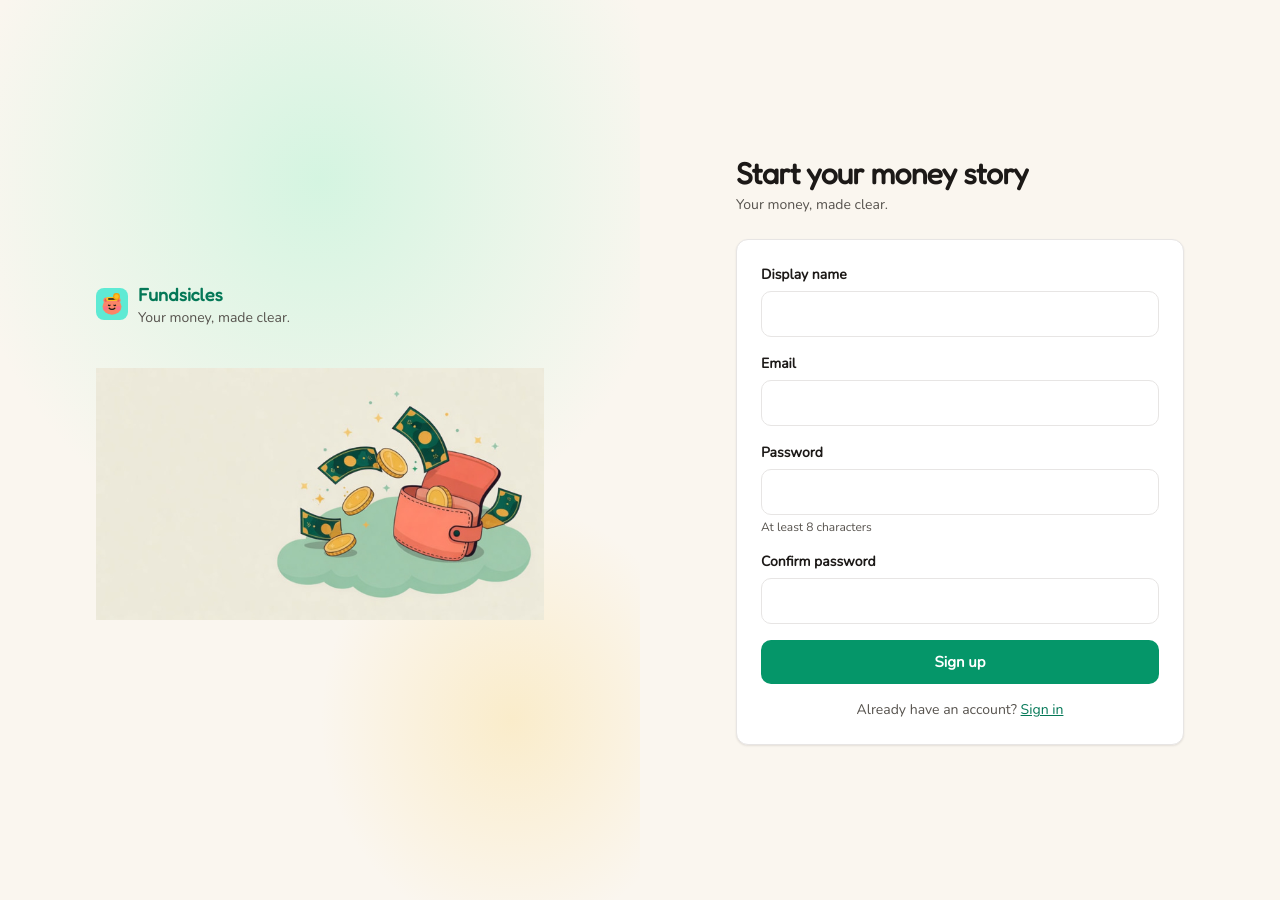
signup confirmation modal › Use another email closes modal, keeps email, and restores focus to email field
The image size is (1280, 900).
Type "Alex" into the field labelled "Display name" at (960, 314), box [761, 291, 1159, 337]
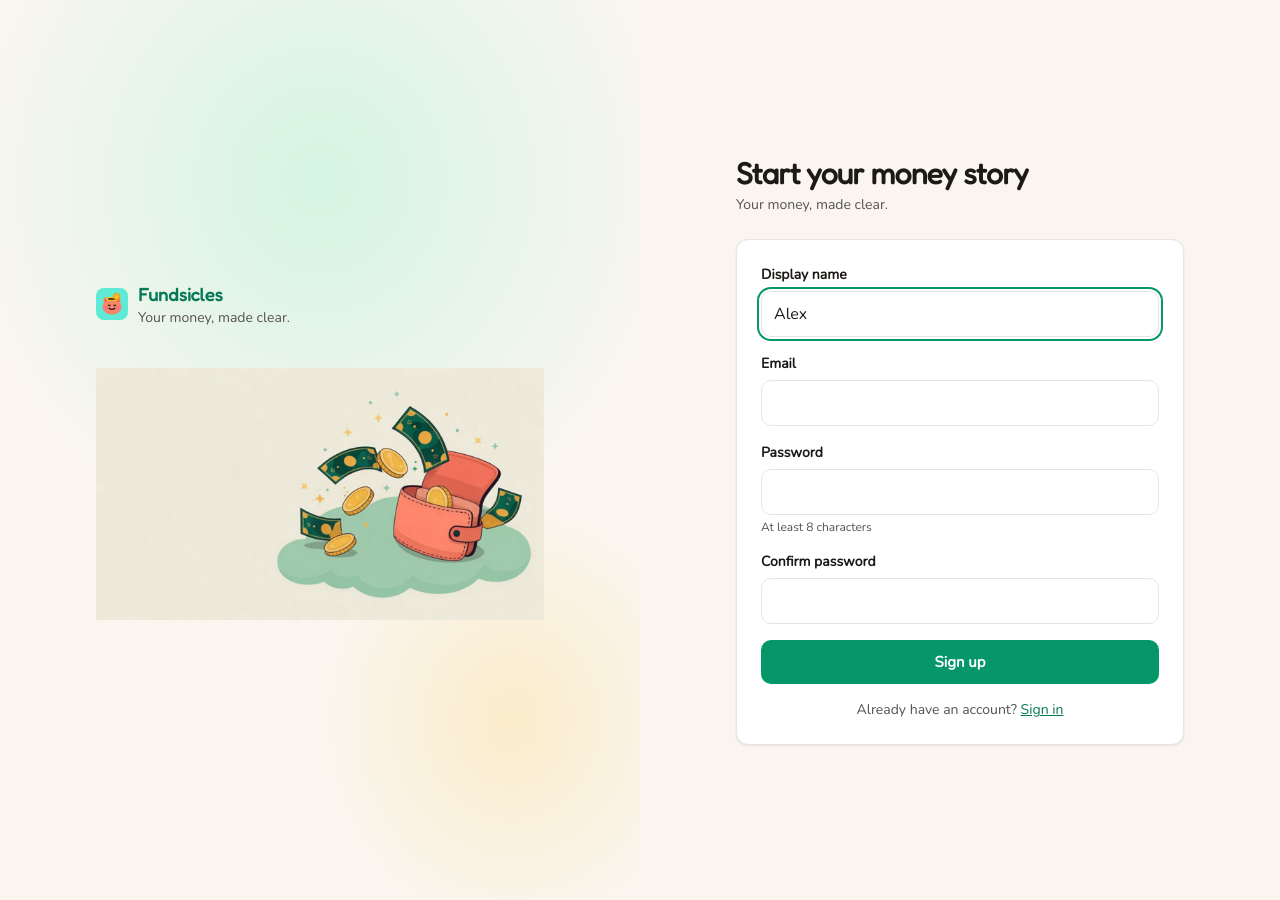
Type "keep@example.com" into the field labelled "Email" at (960, 403), box [761, 380, 1159, 426]
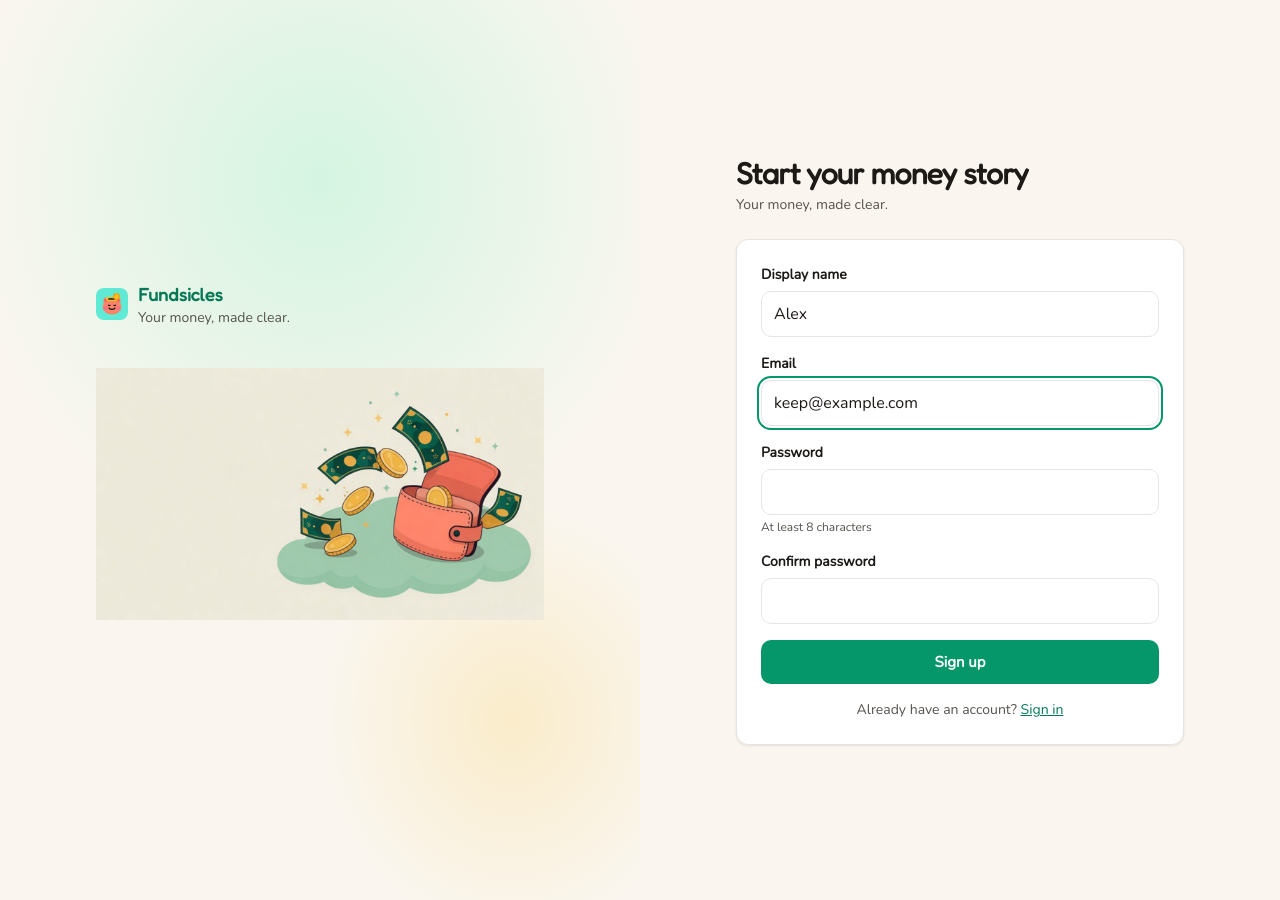
Type "password1" into the password field labelled "Password" at (960, 492), box [761, 469, 1159, 515]
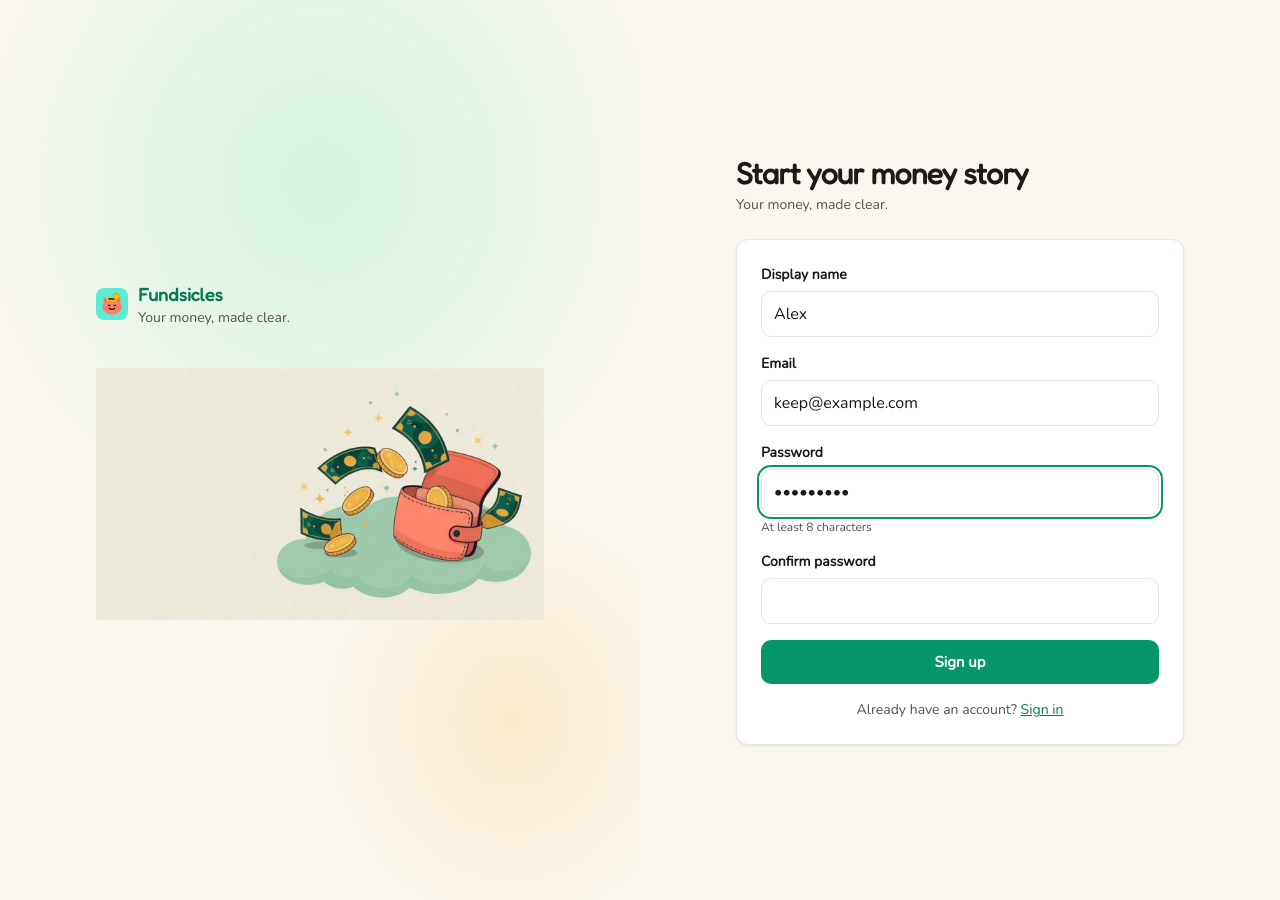
Type "password1" into the password field labelled "Confirm password" at (960, 601), box [761, 578, 1159, 624]
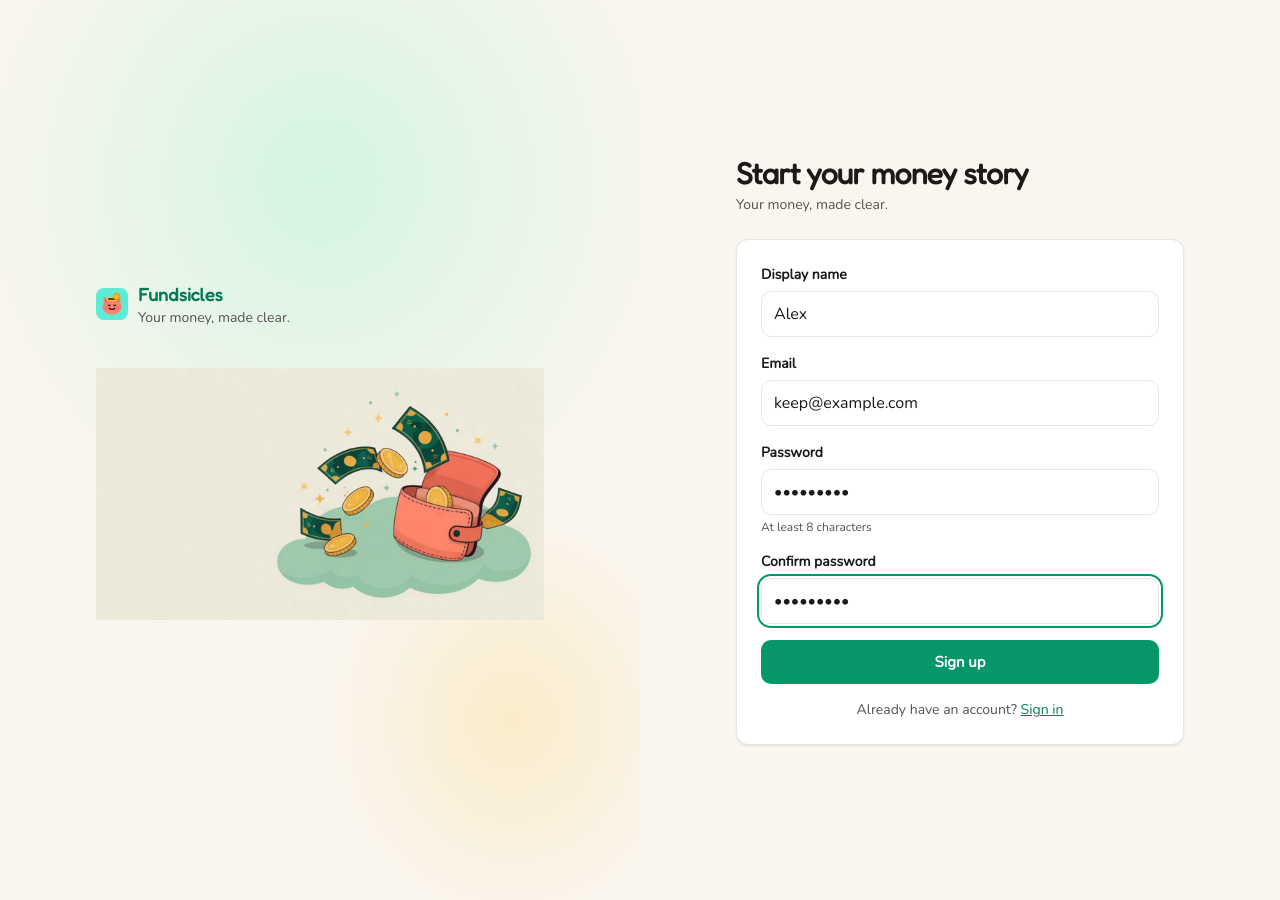
Click the button "Sign up" at (960, 662), box [761, 640, 1159, 684]
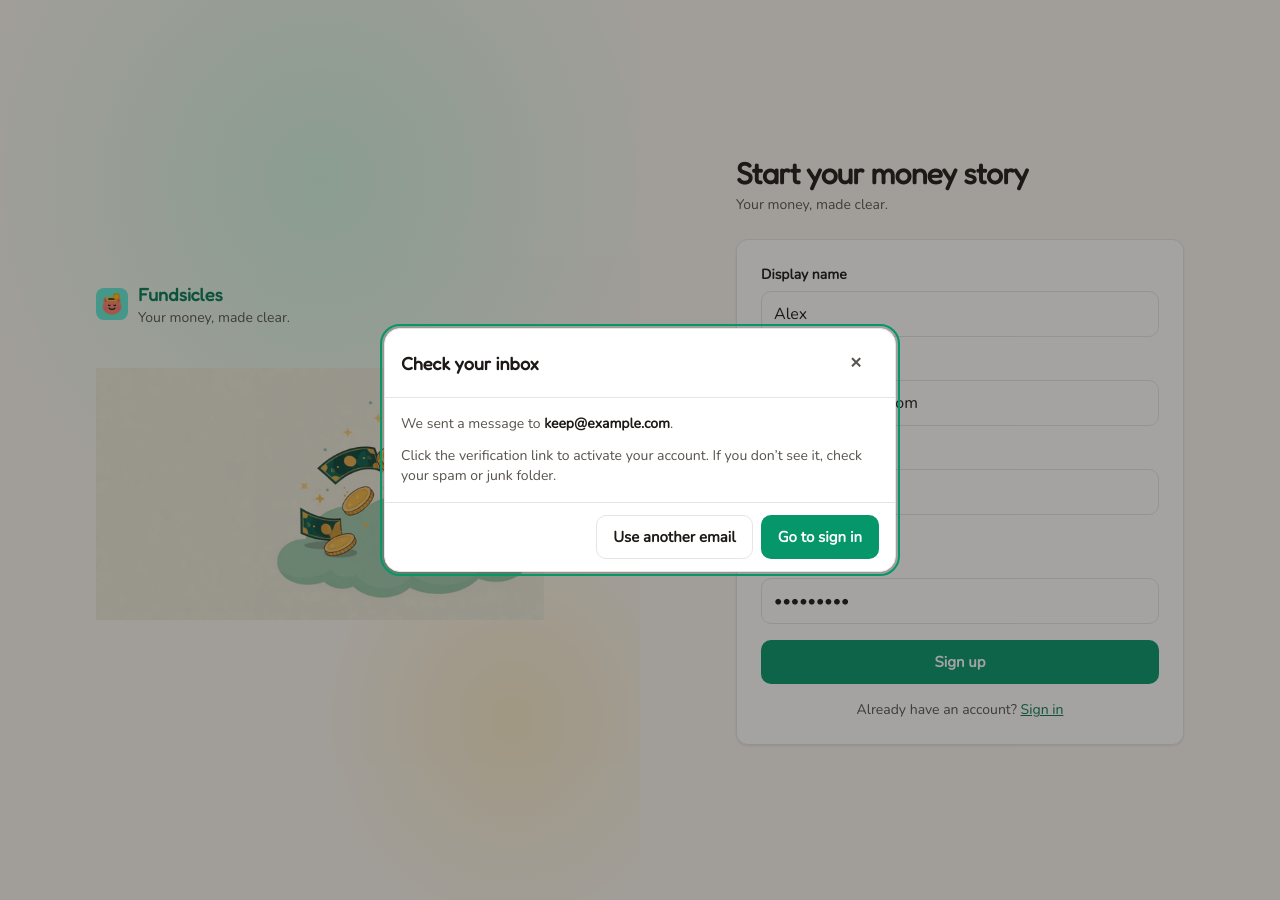
Check: the dialog is shown, box [384, 328, 896, 572]
Click the button "Use another email" at (674, 537), box [596, 515, 753, 559]
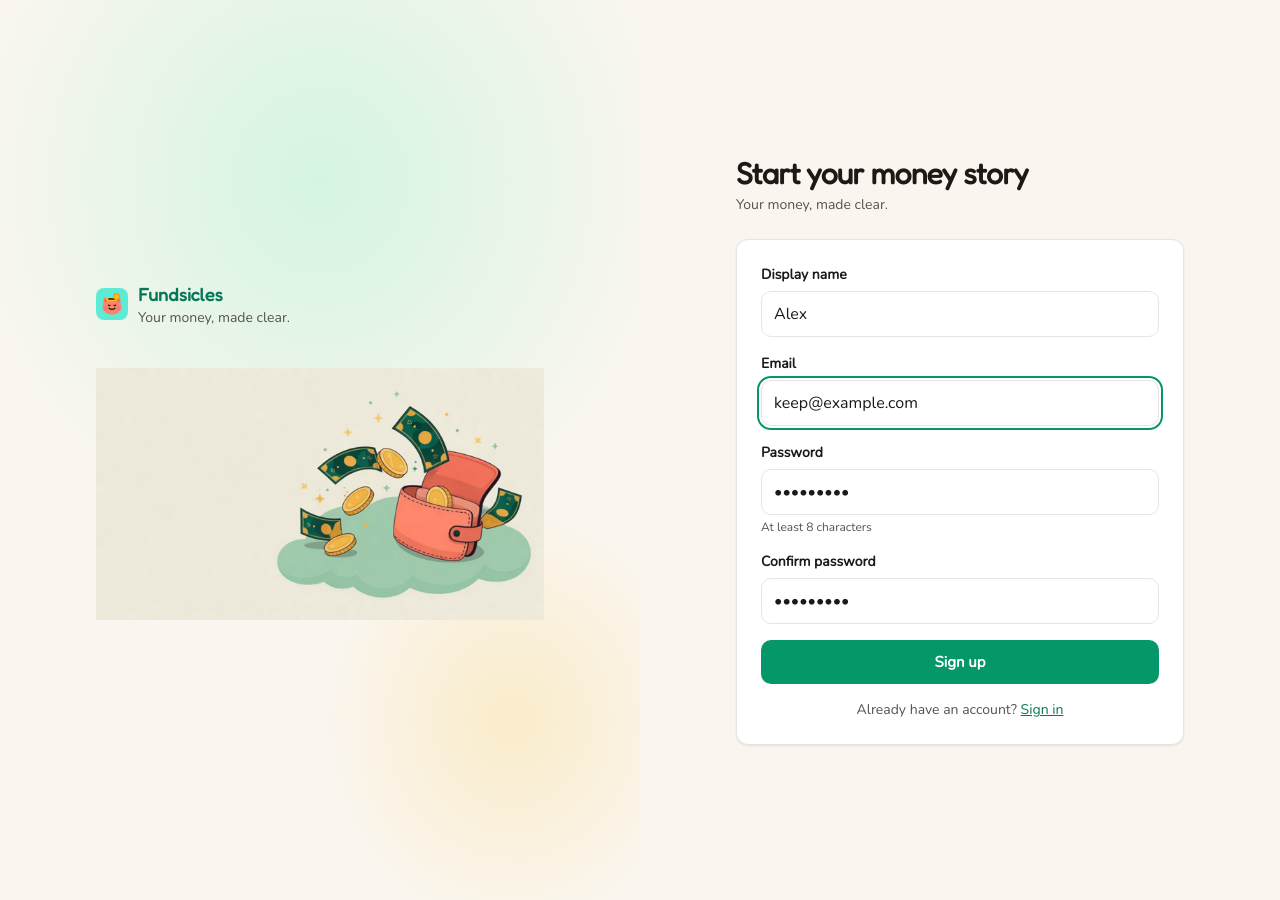
Check: the dialog is gone
